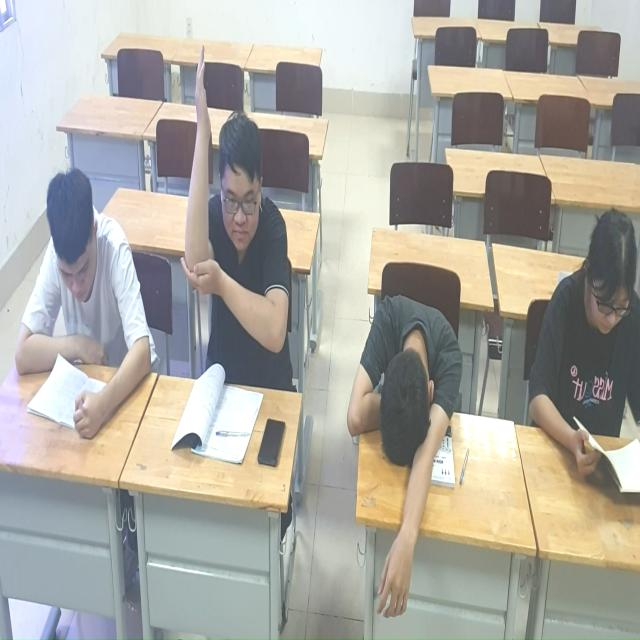raise_hand: (172, 36, 298, 450)
read: (7, 156, 144, 440), (514, 204, 640, 502)
sleep: (344, 278, 464, 623)
